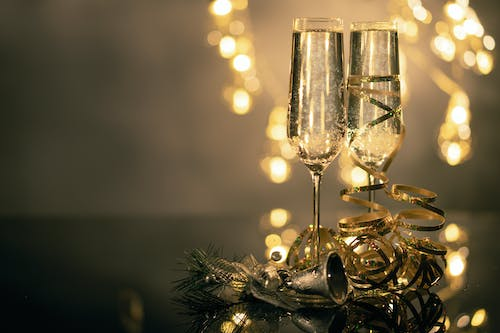alcohol: (285, 16, 346, 267), (346, 21, 404, 214)
